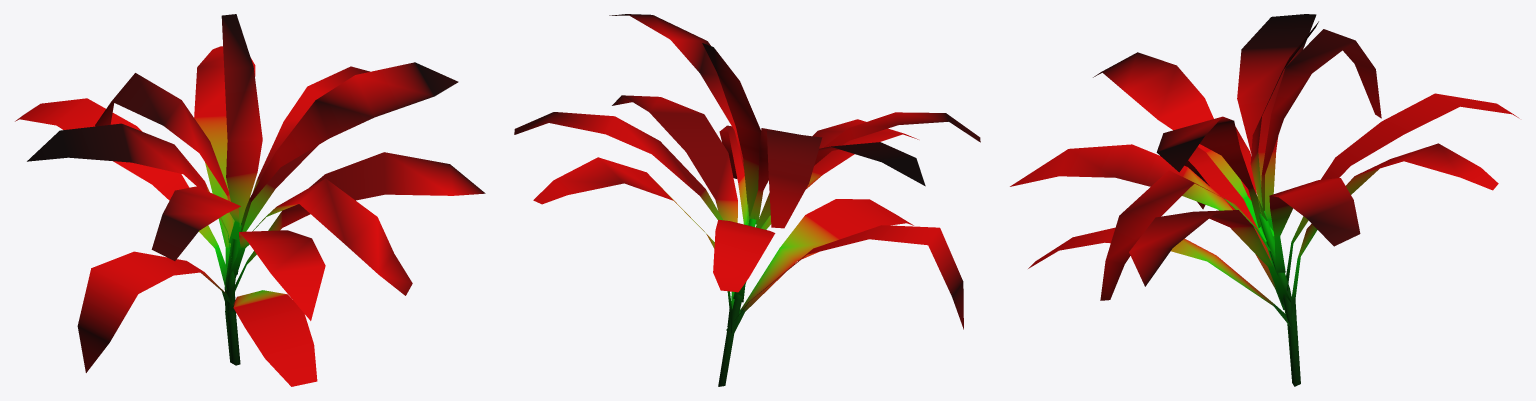
File: Var8_LOD2.fbx
The picture shows the model from 3 angles, left to right: view 1: azimuth 30°, elevation 25°; view 2: azimuth 150°, elevation 25°; view 3: azimuth 270°, elevation 25°; orthographic projection. The views are drawn at different scales.
Visible parts, largest first — view 1: _8ddc_Var8_LOD2; view 2: _8ddc_Var8_LOD2; view 3: _8ddc_Var8_LOD2.
Part boxes in pixels (x1,y1,x2,y2): _8ddc_Var8_LOD2: (15, 14, 485, 386); _8ddc_Var8_LOD2: (514, 14, 980, 386); _8ddc_Var8_LOD2: (1010, 14, 1519, 386).
Bounding box in the file's own units: 39.39 × 33.02 × 42.3.
